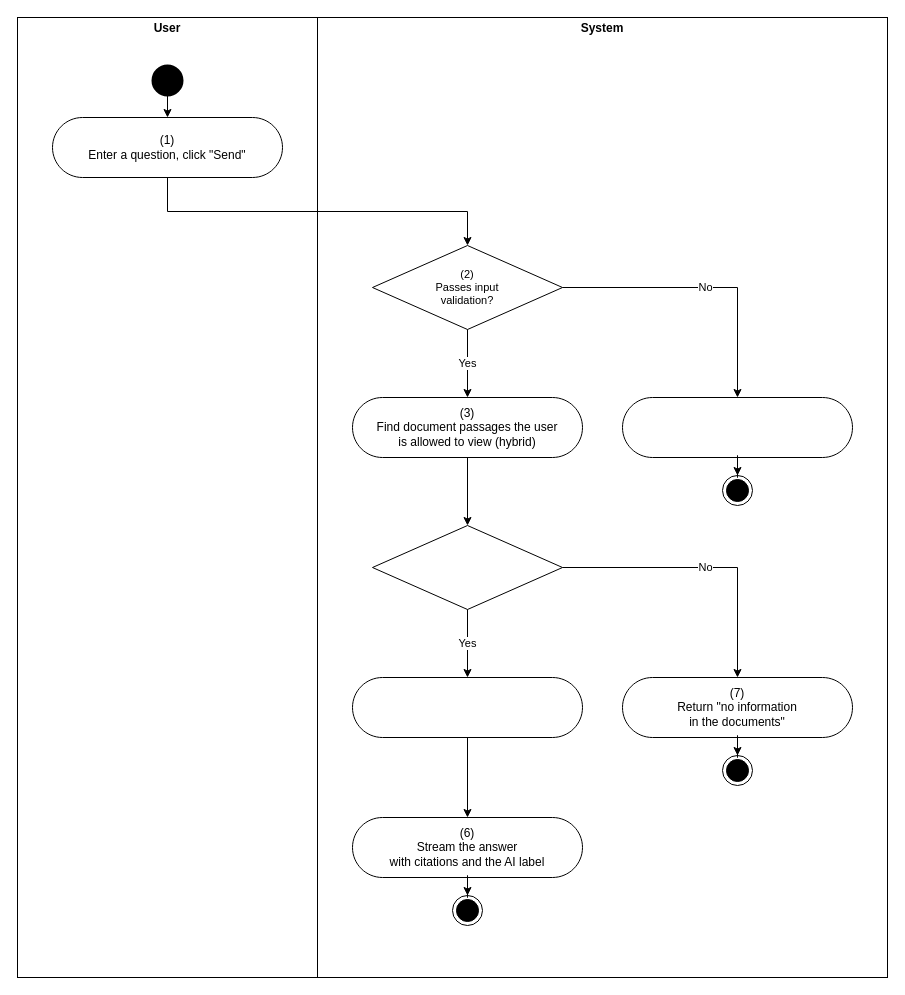
The diagram is 905 pixels wide and 995 high, and some of its shapes have lost their labels. The shapes that lost their labels are listed below. From the top down, each one's box as (x1, y1, x2, y2) in pixels, then its label:
(622, 396, 852, 458): (8) Reject, write audit
(372, 524, 562, 610): (4) Any relevant passages?
(352, 676, 582, 738): (5) Generate an answer through the model chain, check citations and output
